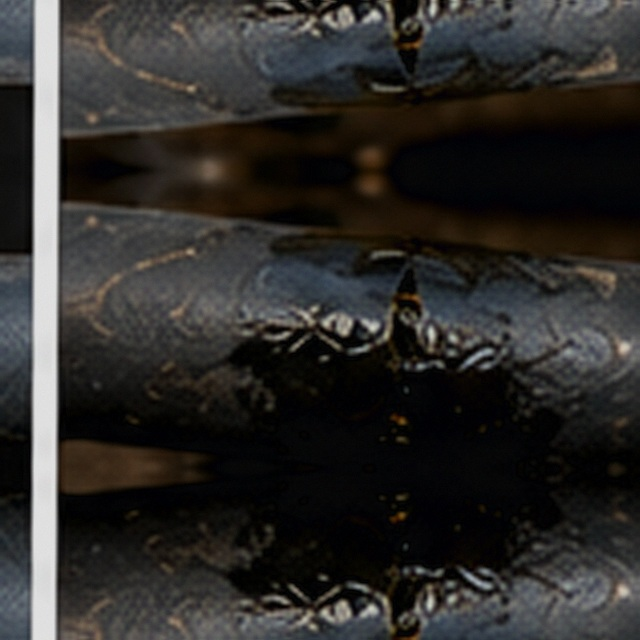hydraulic_oil_leak: (170, 230, 435, 470)
